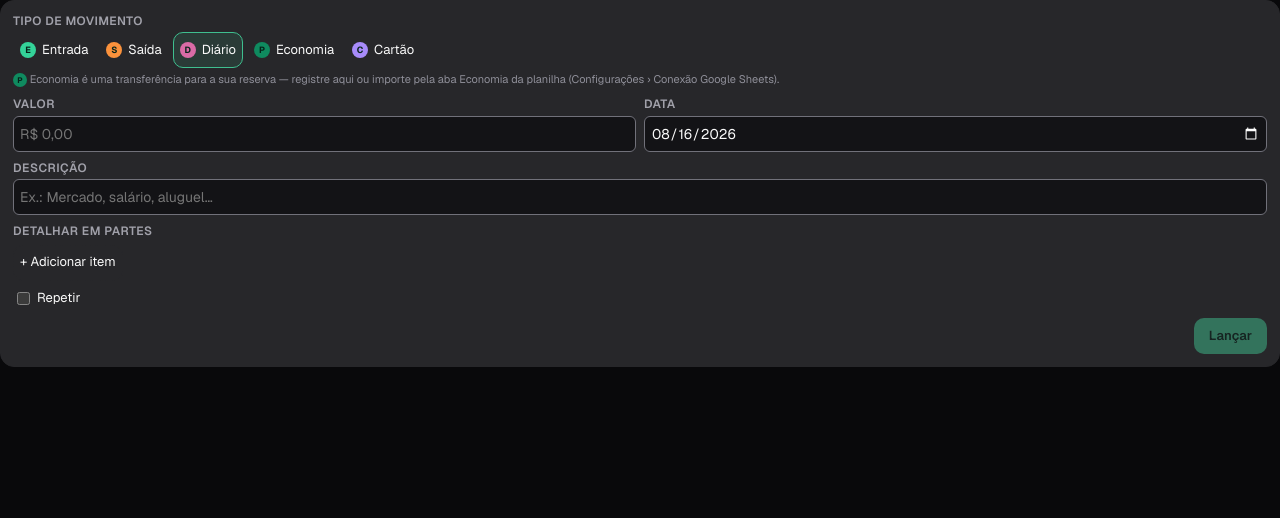
it: NewTransactionForm › line items (plano 036) › adicionar duas partes torna o Valor somente-leitura e mostra a soma
Click the button "+ Adicionar item": (68, 262) [13,244,123,280]
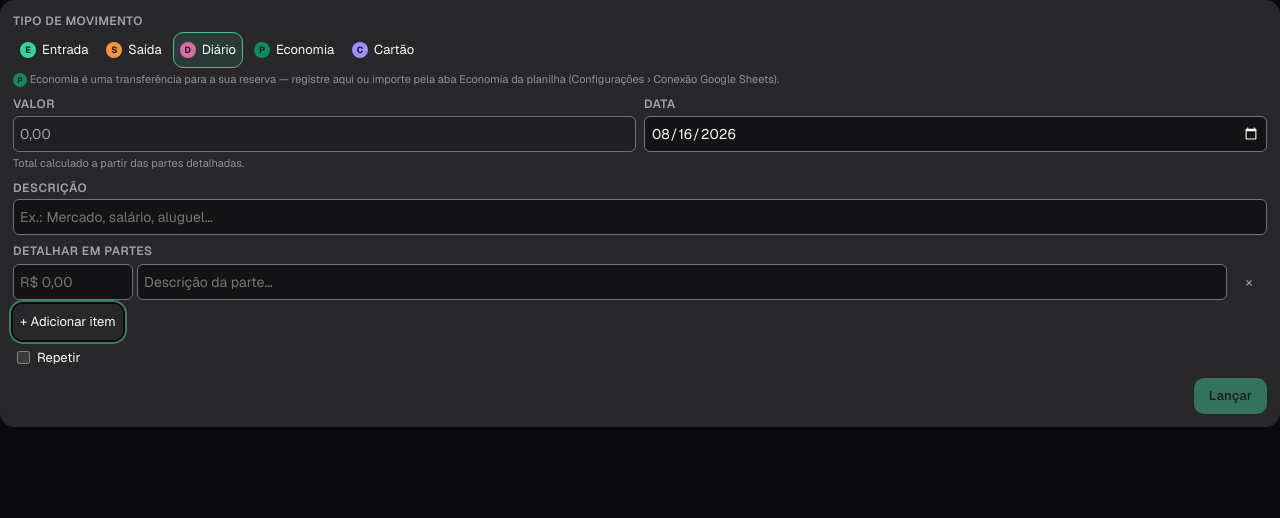
In the field named "Valor do item 1": (73, 282) [13,264,133,300], type "50,00"
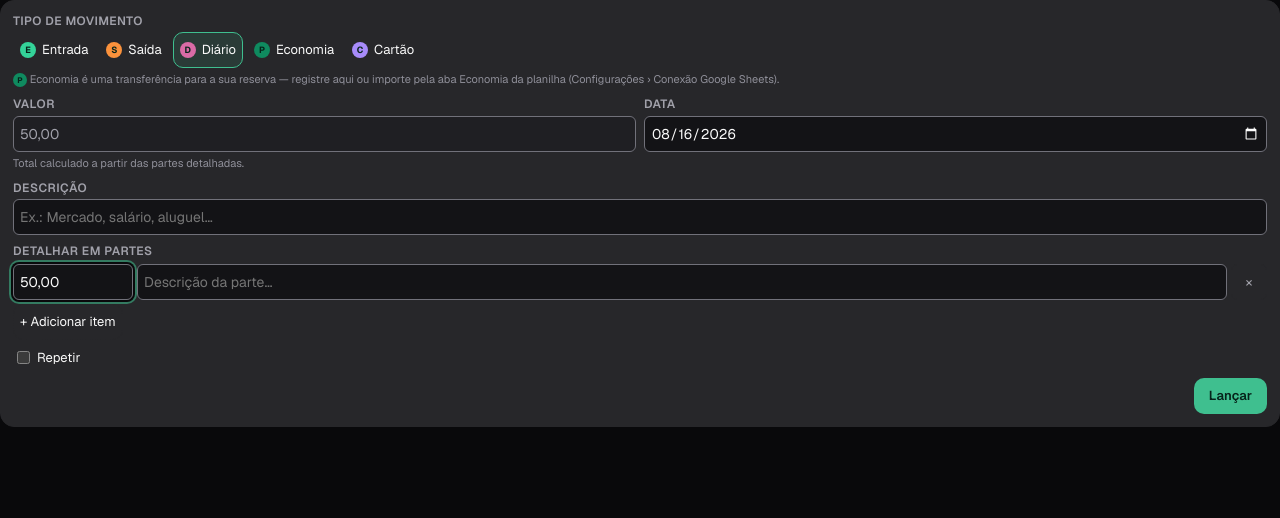
Click the button "+ Adicionar item": (68, 322) [13,304,123,340]
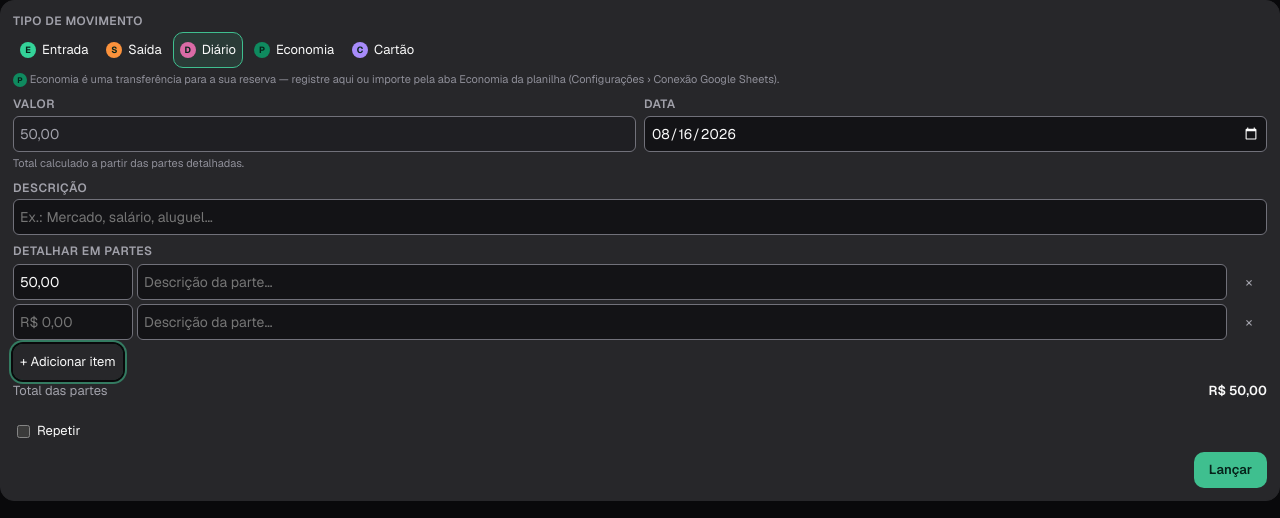
In the field named "Valor do item 2": (73, 322) [13,304,133,340], type "75,00"
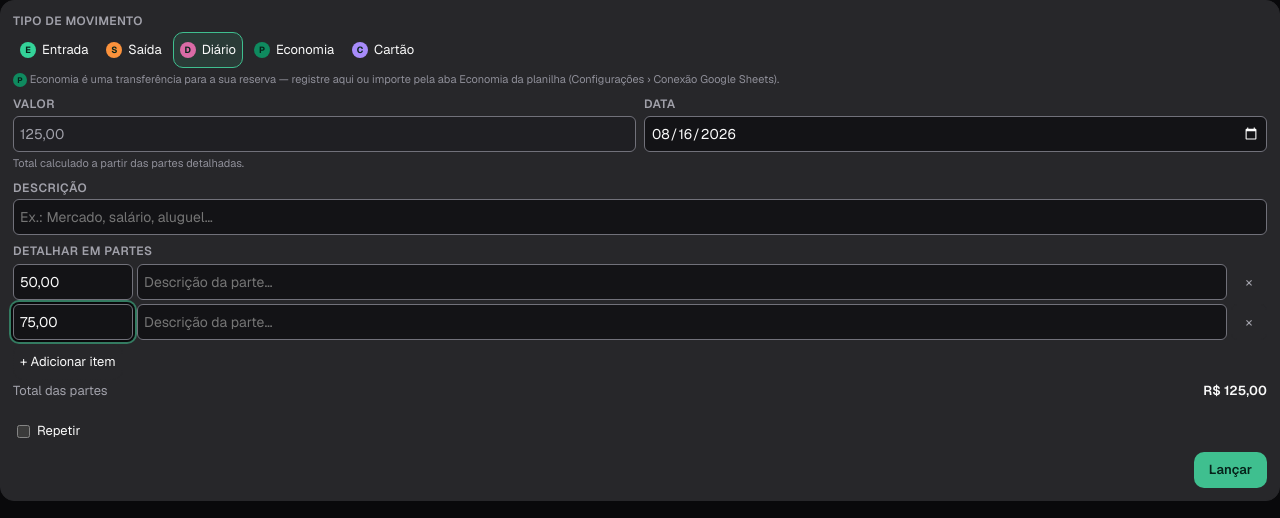
Expected: the field labelled "Valor" holds "125,00", [13,116,636,152]
